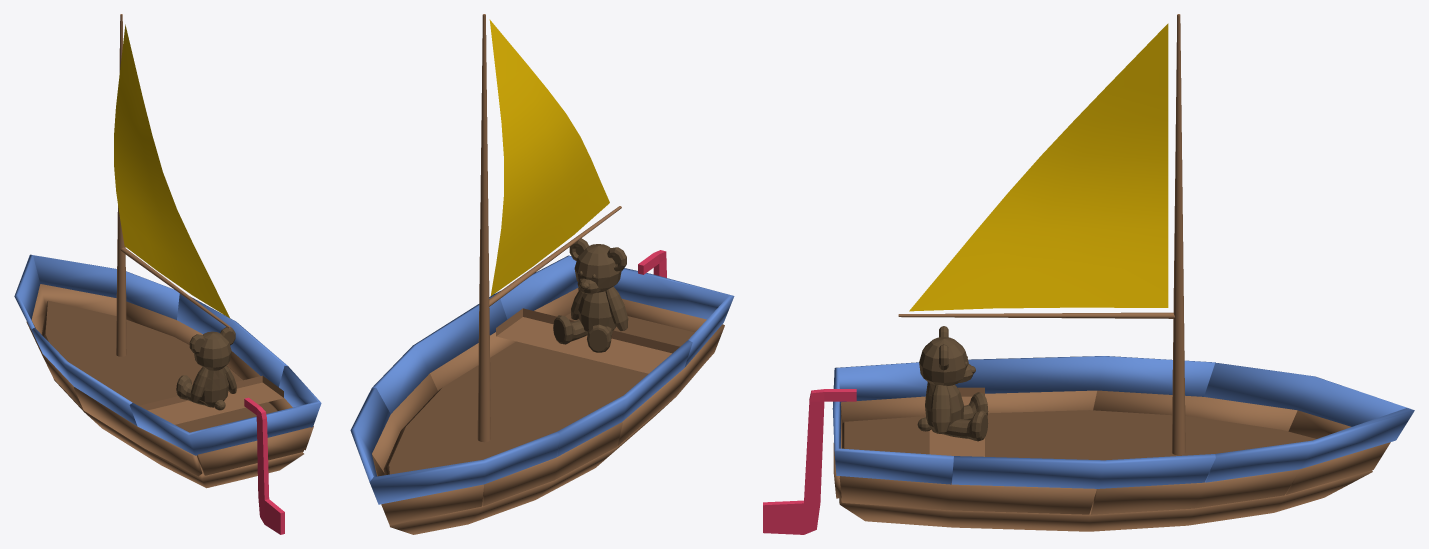
Rendered from boat_lowpoly13.glb.
3 views of the same model, side by side, from view 1: azimuth 30°, elevation 25°; view 2: azimuth 150°, elevation 25°; view 3: azimuth 270°, elevation 25° (orthographic). The views are drawn at different scales.
Parts seen in each view (by area): view 1: Boat, Segel, Boden, Boat.003, Low poly Teddy bear, Bench, Boat.002, Mast, Rudder; view 2: Boat, Boden, Segel, Boat.003, Low poly Teddy bear, Mast, Bench, Boat.002, Rudder; view 3: Segel, Boat, Boat.003, Boden, Boat.002, Mast, Low poly Teddy bear, Rudder, Bench.
Part boxes in pixels (x1,y1,x2,y2): Boat: (14, 254, 321, 455); Segel: (114, 24, 230, 318); Boden: (41, 300, 277, 432); Boat.003: (26, 284, 313, 476); Low poly Teddy bear: (176, 327, 236, 410); Bench: (139, 375, 283, 424); Boat.002: (54, 379, 303, 488); Mast: (116, 14, 231, 356); Rudder: (244, 397, 284, 534); Boat: (350, 255, 734, 504); Boden: (383, 313, 694, 475); Segel: (489, 19, 609, 295); Boat.003: (372, 288, 724, 525); Low poly Teddy bear: (553, 238, 628, 352); Mast: (477, 14, 621, 442); Bench: (496, 308, 679, 373); Boat.002: (389, 367, 701, 534); Rudder: (638, 250, 666, 277); Segel: (909, 23, 1168, 311); Boat: (832, 356, 1414, 488); Boat.003: (833, 390, 1390, 514); Boden: (842, 410, 1316, 460); Boat.002: (839, 470, 1372, 531); Mast: (898, 14, 1185, 455); Low poly Teddy bear: (917, 326, 988, 441); Rudder: (763, 389, 856, 534); Bench: (929, 387, 984, 456).
Bounding box in the file's own units: 2.82 × 6.31 × 7.18.
